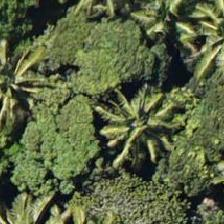coconut_tree: (93, 83, 183, 173)
